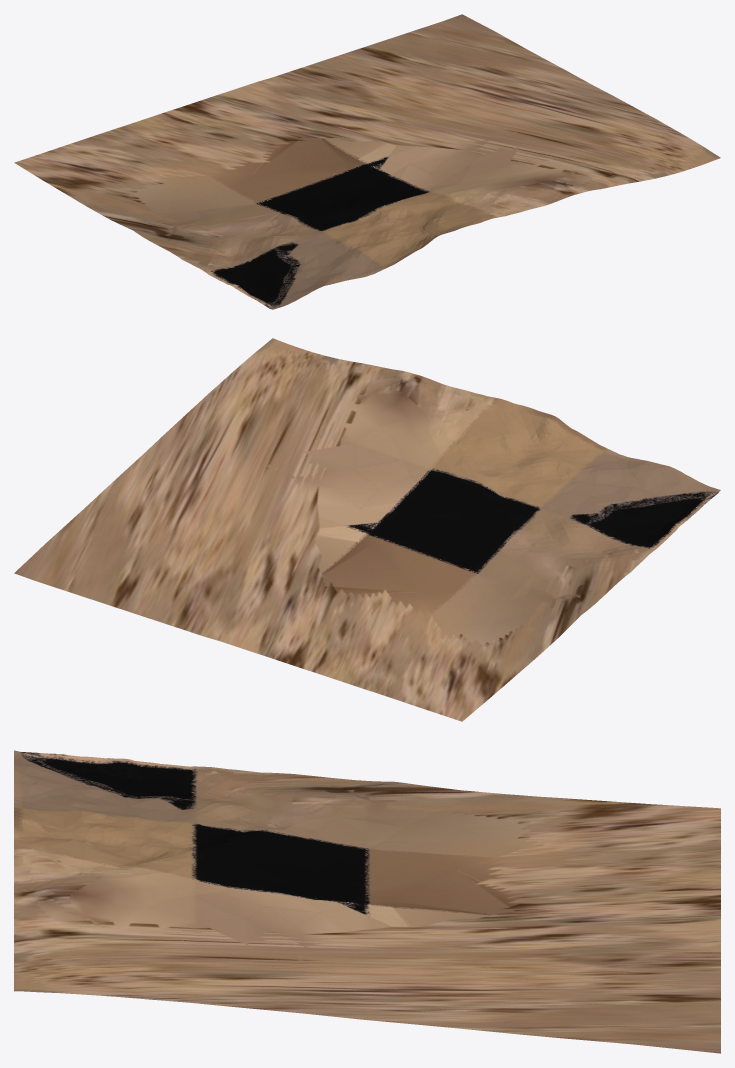
The picture shows the model from 3 angles, top to bottom: view 1: azimuth 30°, elevation 25°; view 2: azimuth 150°, elevation 25°; view 3: azimuth 270°, elevation 25°; orthographic projection. The views are drawn at different scales.
Bounding box in the file's own units: 4.18 × 0.7558 × 4.18.
Materials: 3 (3 with a texture image).
